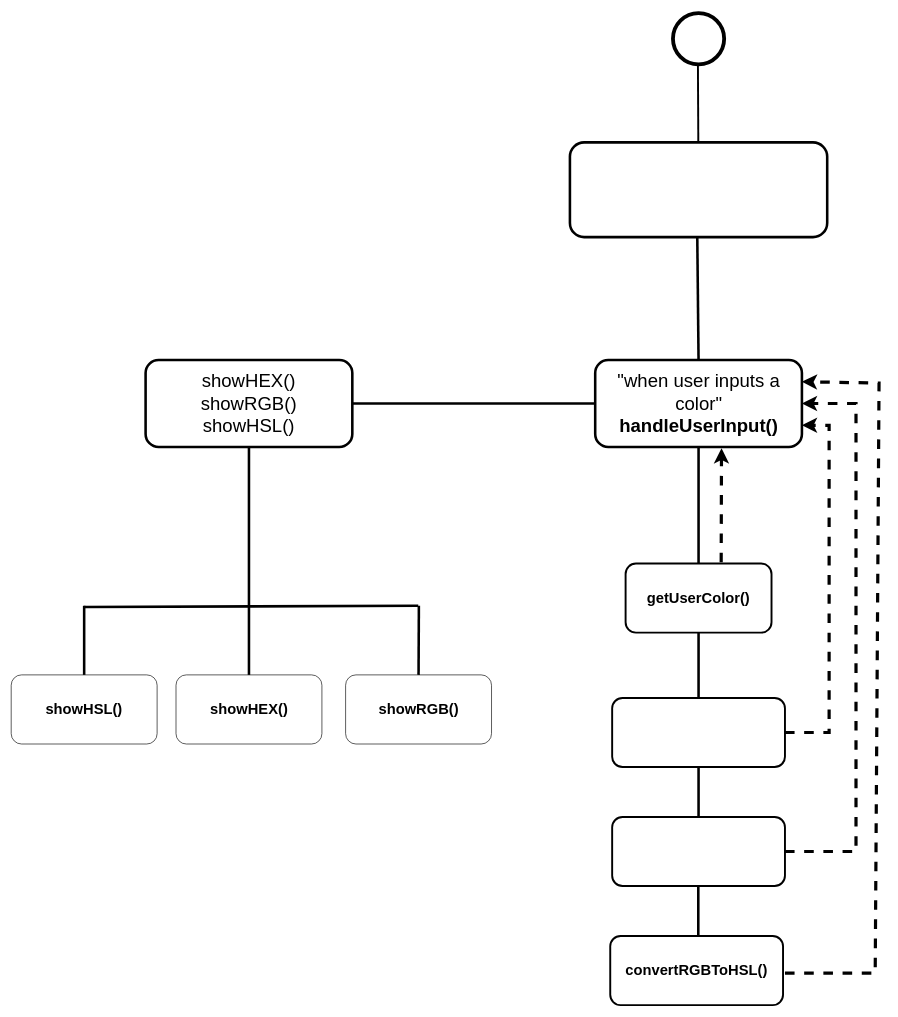
Some shapes in this 898 by 1017 pixel diagram are drawn without their labels. The centre of each missing label's shape, as x and y in pixels:
convertHEXToRGB(): the point at 698,732
convertRGBToCSS(): the point at 698,851
loadPage addEvents(): the point at 698,189
